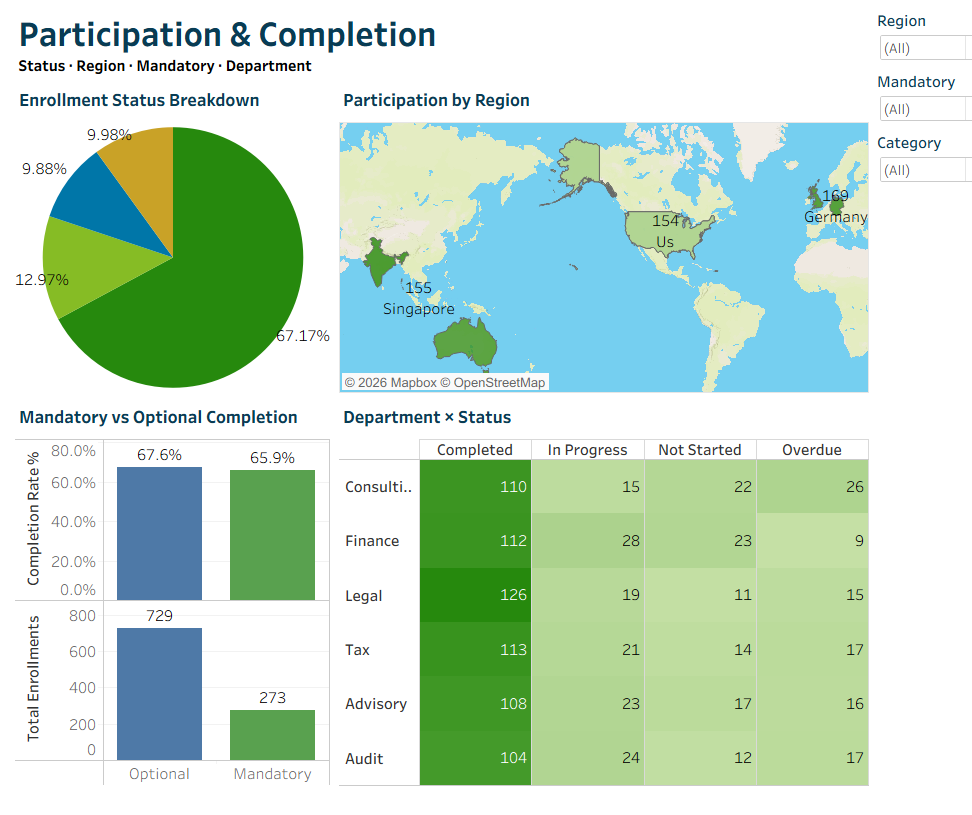

Layout of this report page (visuals, bound fields, positions):
{"tool":"tableau","page":{"name":"2 - Participation","canvas":[1000,800],"ordinal":1},"visuals":[{"type":"text","box":[8,8,862,74]},{"type":"filter","title":"Enrollment Status Breakdown","param":"[federated.15vr0xh1iu9k4k1dwr2az0vmulpq].[none:Region:nk]","box":[870,8,122,61]},{"type":"filter","title":"Enrollment Status Breakdown","param":"[federated.15vr0xh1iu9k4k1dwr2az0vmulpq].[none:Mandatory:nk]","box":[870,69,122,61]},{"type":"worksheet","title":"Enrollment Status Breakdown","mark":"Pie","box":[8,82,324.3,317.2]},{"type":"worksheet","title":"Participation by Region","mark":"Multipolygon","box":[332.3,82,537.7,317.2]},{"type":"filter","title":"Enrollment Status Breakdown","param":"[federated.15vr0xh1iu9k4k1dwr2az0vmulpq].[none:Course_Category:nk]","box":[870,130,122,61]},{"type":"worksheet","title":"Mandatory vs Optional Completion","mark":"Bar","rows":["Calculation_0669105712525312","Calculation_0669105712877570"],"cols":["Mandatory"],"box":[8,399.2,324.3,392.8]},{"type":"worksheet","title":"Department × Status","mark":"Square","rows":["Department"],"cols":["Status"],"box":[332.3,399.2,537.7,392.8]}]}

Visuals, with their boxes on the page's 1000x800 design canvas (x1, y1, x2, y2). These are canvas units, not pixel positions in the 972x815 screenshot, which may show the page scaled, cropped or inside an application window:
text: region(8, 8, 870, 82)
"Enrollment Status Breakdown" filter: region(870, 8, 992, 69)
"Enrollment Status Breakdown" filter: region(870, 69, 992, 130)
"Enrollment Status Breakdown" worksheet (Pie marks): region(8, 82, 332, 399)
"Participation by Region" worksheet (Multipolygon marks): region(332, 82, 870, 399)
"Enrollment Status Breakdown" filter: region(870, 130, 992, 191)
"Mandatory vs Optional Completion" worksheet (Bar marks): region(8, 399, 332, 792)
"Department × Status" worksheet (Square marks): region(332, 399, 870, 792)
